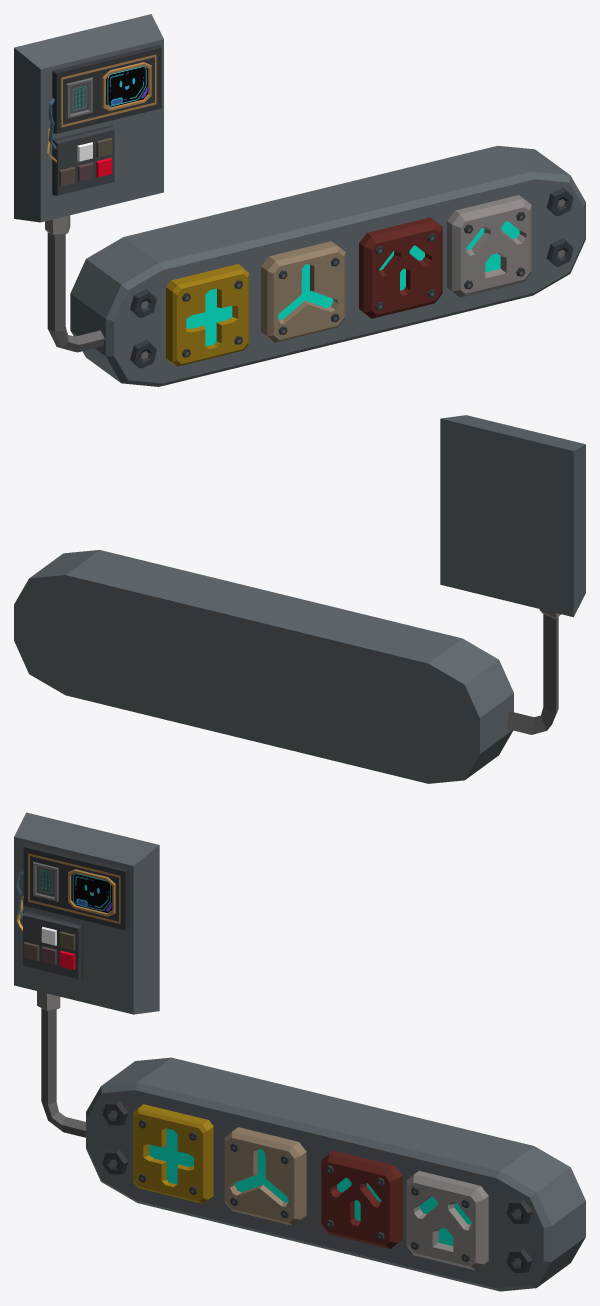
Rendered from SM_Prop_Greebles_23.fbx.
3 views of the same model, one above another, from view 1: azimuth 30°, elevation 25°; view 2: azimuth 150°, elevation 25°; view 3: azimuth 330°, elevation 25° (orthographic). The views are drawn at different scales.
Visible parts, largest first — view 1: SM_Prop_Greebles_23; view 2: SM_Prop_Greebles_23; view 3: SM_Prop_Greebles_23.
Part boxes in pixels (x1,y1,x2,y2): SM_Prop_Greebles_23: [14, 14, 585, 386]; SM_Prop_Greebles_23: [14, 415, 585, 783]; SM_Prop_Greebles_23: [14, 812, 585, 1291].
Size of the model in its own units: 98.7 by 60.96 by 14.8.
